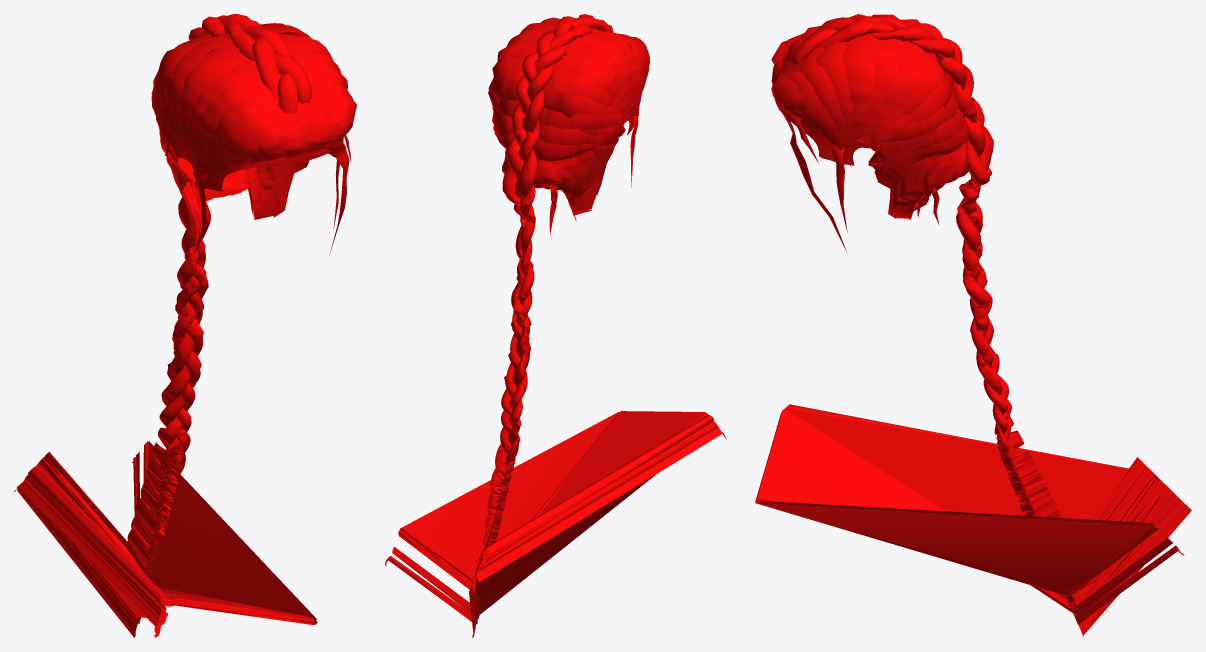
Rendered from elvs_lara_hair_F.glb.
The picture shows the model from 3 angles, left to right: view 1: azimuth 30°, elevation 25°; view 2: azimuth 150°, elevation 25°; view 3: azimuth 270°, elevation 25°; orthographic projection. The views are drawn at different scales.
Size of the model in its own units: 0.263 by 0.7634 by 0.4885.
Materials: 1 (1 with a texture image).
